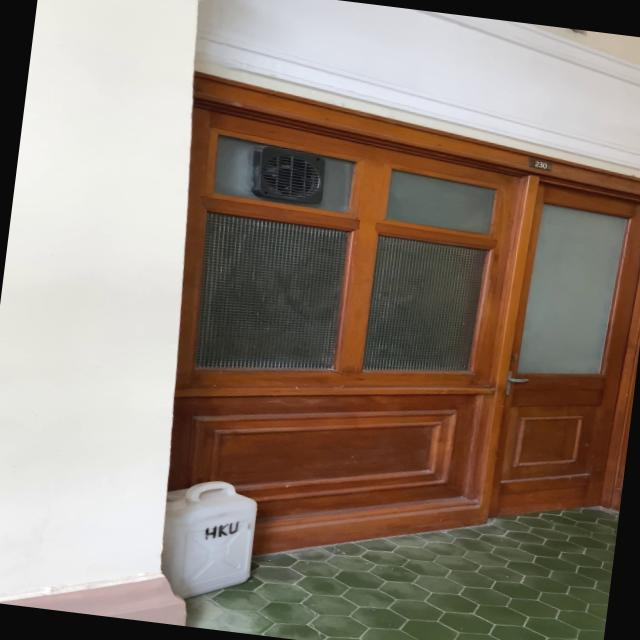room230: (528, 158, 553, 171)
